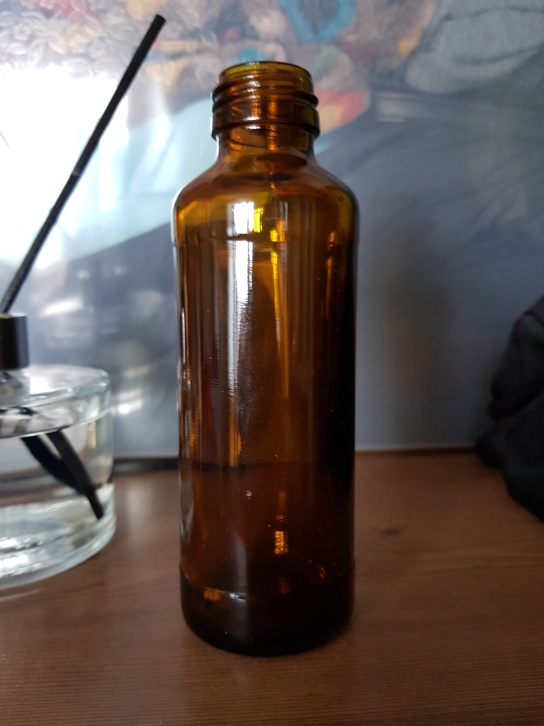Glass: (168, 56, 361, 659)
